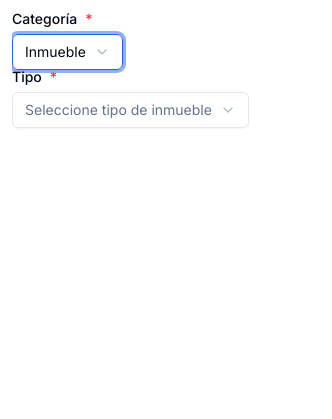
Test: AssetTypeSelector › elegir "Inmueble" habilita el segundo selector con los 8 tipos de inmueble
Earlier steps of the test are not shown.
Click the dropdown labelled "Seleccione tipo de inmueble": (130, 110) [12, 92, 249, 128]
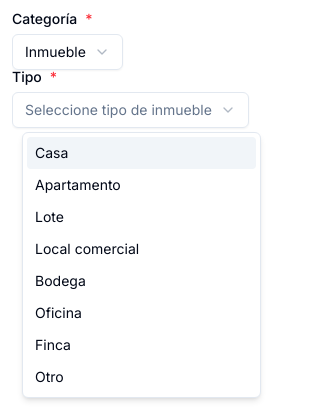
Expected: the option "Casa" is shown, [27, 137, 256, 169]
Expected: the option "Apartamento" is shown, [35, 176, 121, 193]
Expected: the option "Finca" is shown, [35, 336, 71, 353]
